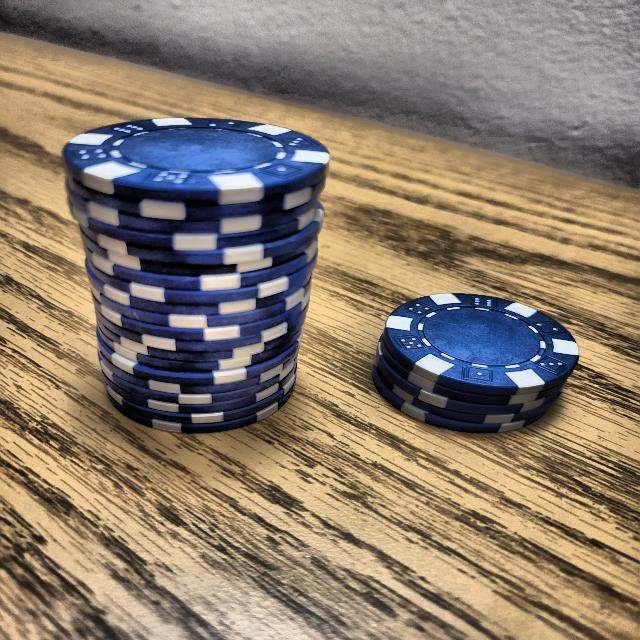Chip: (40, 84, 357, 448), (359, 272, 582, 448)
